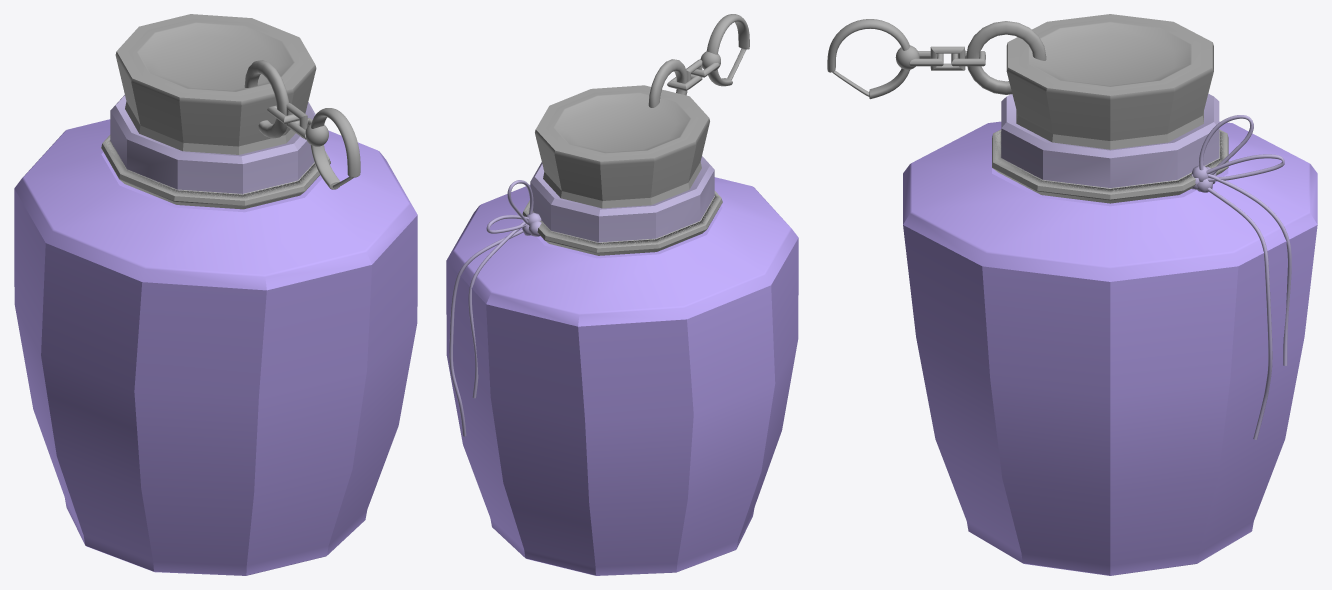
Rendered from galaxie.fbx.
The picture shows the model from 3 angles, left to right: view 1: azimuth 30°, elevation 25°; view 2: azimuth 150°, elevation 25°; view 3: azimuth 270°, elevation 25°; orthographic projection. The views are drawn at different scales.
Visible parts, largest first — view 1: GalaxieFinal; view 2: GalaxieFinal; view 3: GalaxieFinal.
Boxes of the visible parts, x1,y1,x2,y2 form: GalaxieFinal: (14,14,417,575); GalaxieFinal: (446,14,798,575); GalaxieFinal: (827,14,1317,575).
Size of the model in its own units: 9.52 by 12.8 by 11.54.
